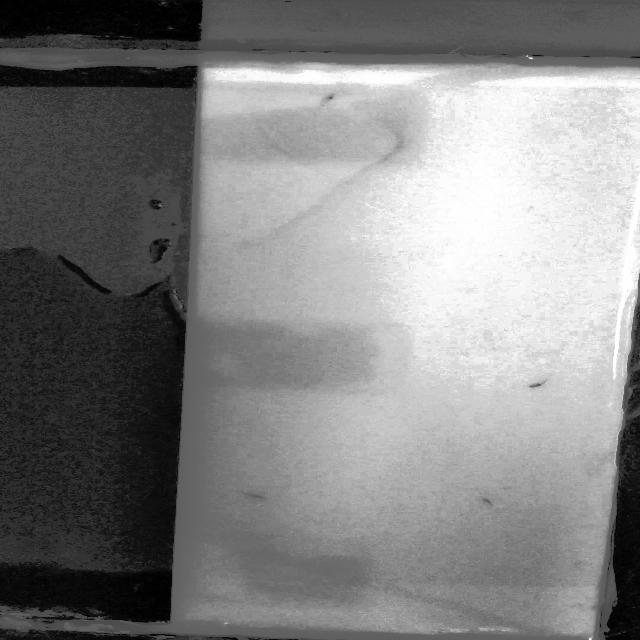shrimp: (239, 490, 277, 504), (519, 378, 552, 394), (314, 88, 342, 106), (470, 496, 505, 510)
